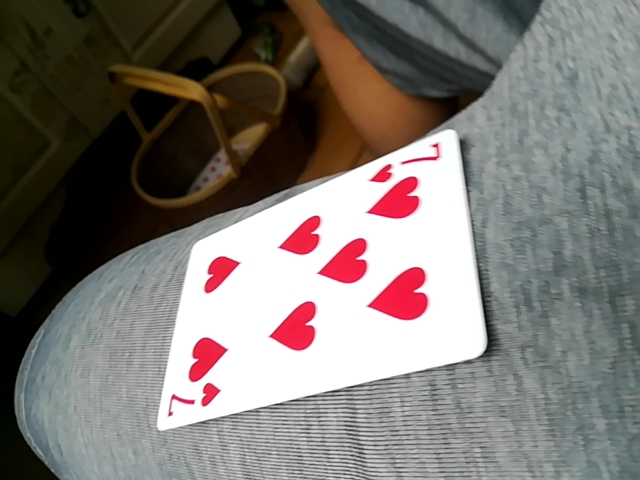hx 7: (168, 133, 491, 432)
